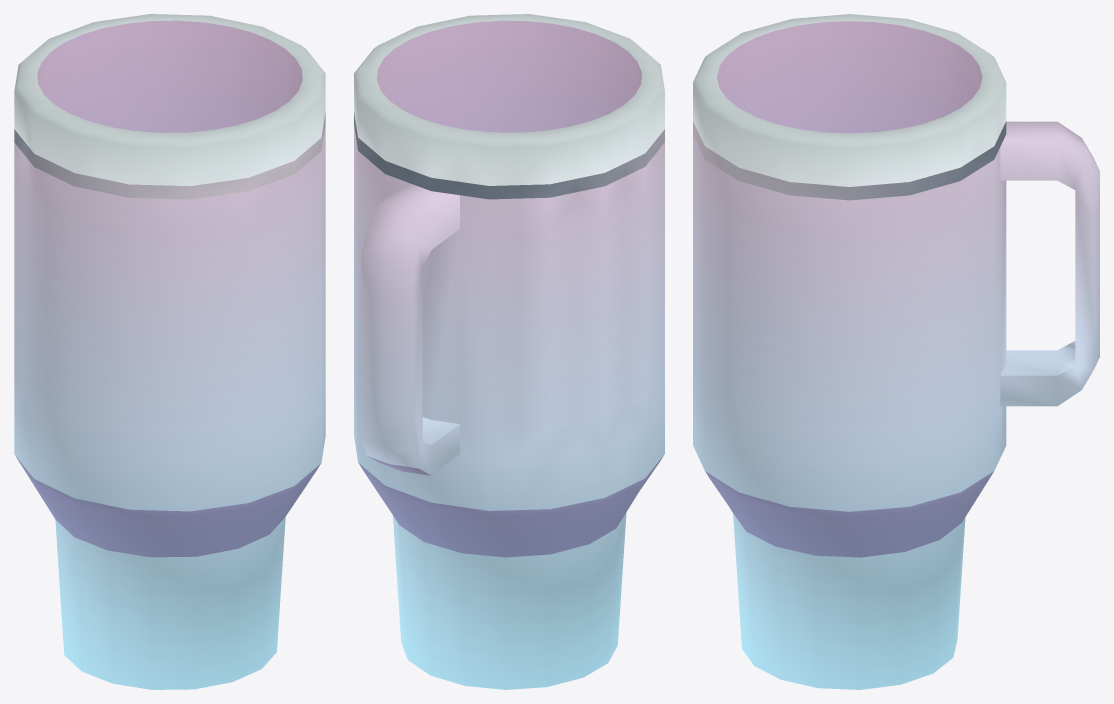
The model's file is VickiStanley.glb.
3 renders of one model, left to right at view 1: azimuth 30°, elevation 25°; view 2: azimuth 150°, elevation 25°; view 3: azimuth 270°, elevation 25°, orthographic.
Visible parts, largest first — view 1: Cylinder; view 2: Cylinder; view 3: Cylinder.
Boxes of the visible parts, box(x1,y1,x2,y2) form: Cylinder: box(14, 14, 325, 689); Cylinder: box(354, 14, 664, 689); Cylinder: box(693, 14, 1099, 689).
Size of the model in its own units: 2.26 by 4.52 by 2.94.
Materials: 1 (1 with a texture image).
